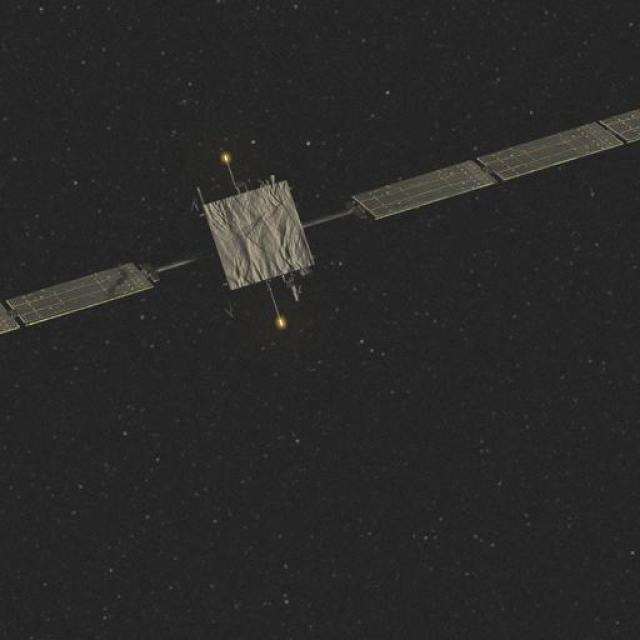smart_1: (27, 164, 446, 359)
